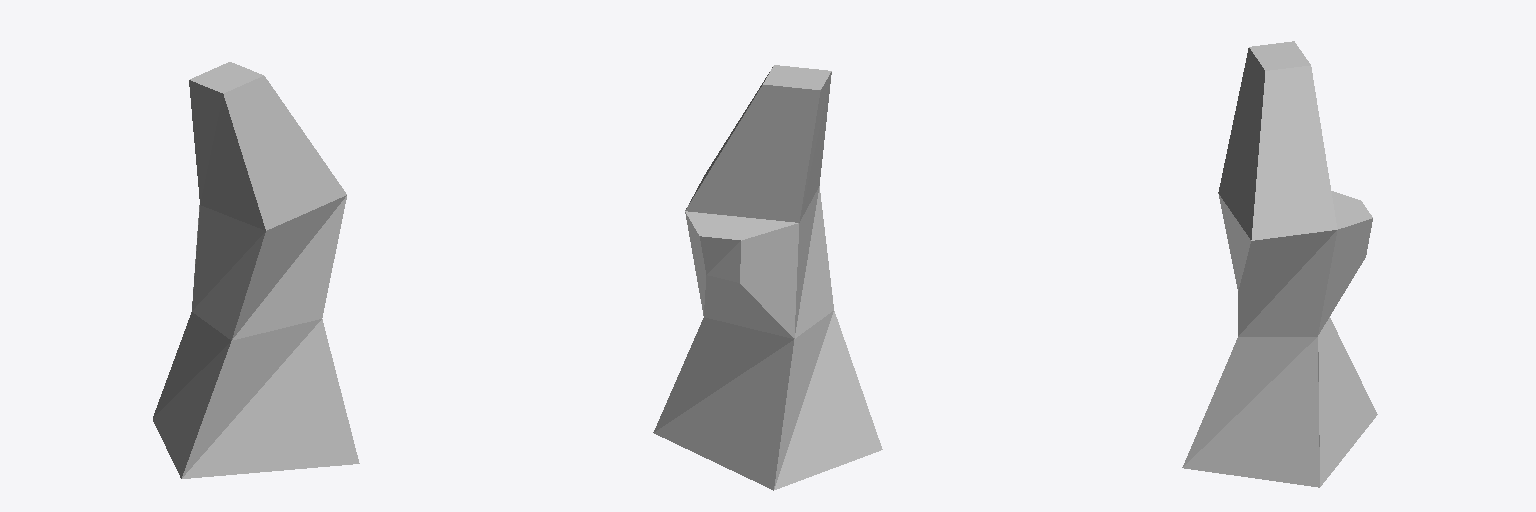
File: Pillar5.obj
The picture shows the model from 3 angles: view 1: azimuth 30°, elevation 25°; view 2: azimuth 150°, elevation 25°; view 3: azimuth 270°, elevation 25°; orthographic projection.
Visible parts, largest first — view 1: Pillar5; view 2: Pillar5; view 3: Pillar5.
Boxes of the visible parts, <box> form: Pillar5: <box>153,62,359,478</box>; Pillar5: <box>653,65,882,490</box>; Pillar5: <box>1182,41,1377,487</box>.
Size of the model in its own units: 11.4 by 21.33 by 10.2.